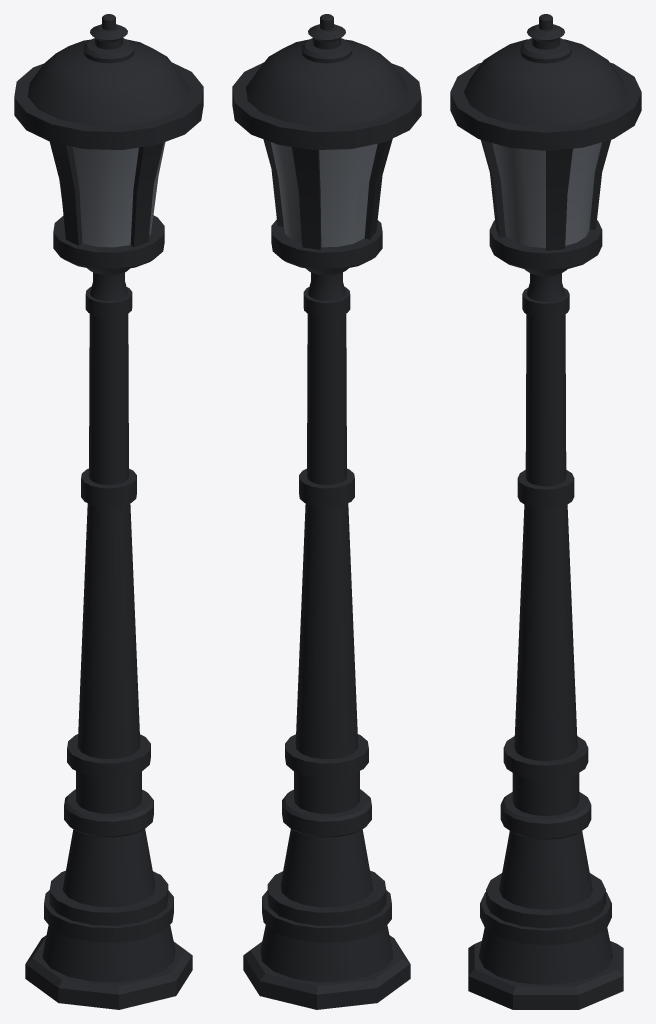
The model's file is Street Lamp.fbx.
3 views of the same model, side by side, from view 1: azimuth 30°, elevation 25°; view 2: azimuth 150°, elevation 25°; view 3: azimuth 270°, elevation 25° (orthographic).
Parts seen in each view (by area): view 1: Street_Lamp; view 2: Street_Lamp; view 3: Street_Lamp.
Boxes of the visible parts, <box> form: Street_Lamp: <box>14,14,203,1009</box>; Street_Lamp: <box>232,14,421,1009</box>; Street_Lamp: <box>450,14,641,1009</box>.
Bounding box in the file's own units: 70.38 × 390 × 70.38.
